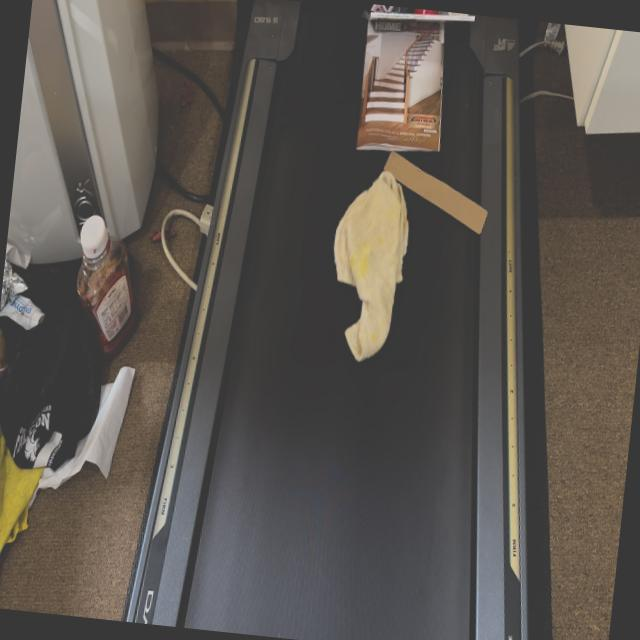Recycle: (355, 13, 454, 152), (372, 152, 496, 236)
Trash: (316, 170, 417, 365)
